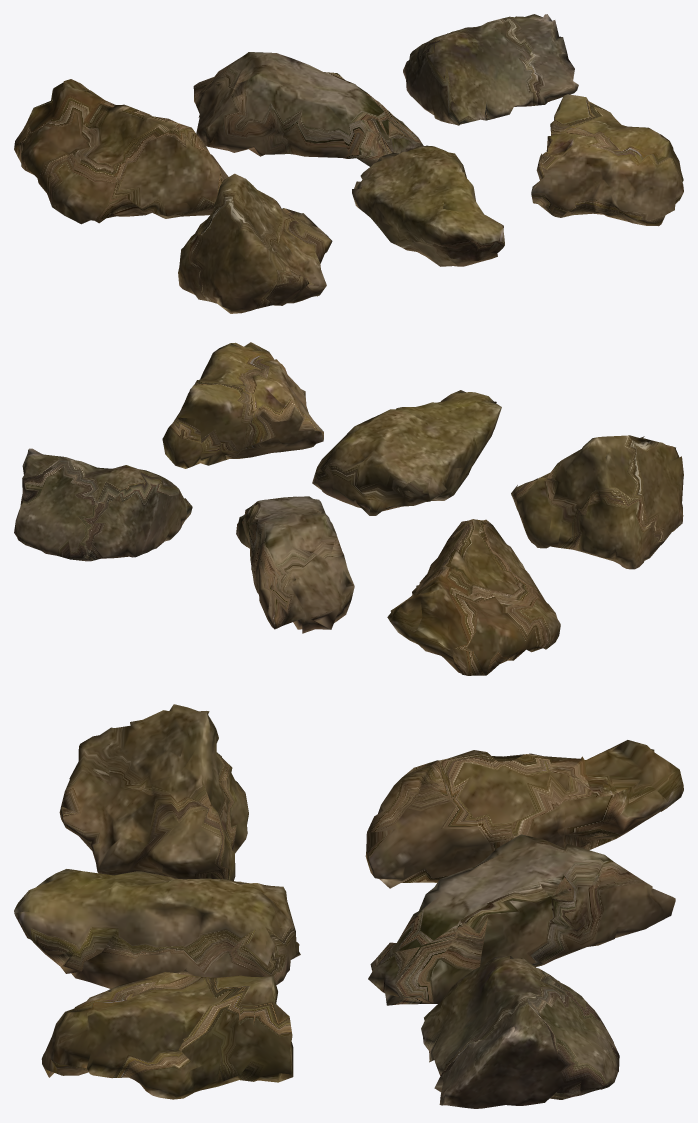
The model's file is rock_moss_set_01_lod1.glb.
3 renders of one model, top to bottom at view 1: azimuth 30°, elevation 25°; view 2: azimuth 150°, elevation 25°; view 3: azimuth 270°, elevation 25°, orthographic. The views are drawn at different scales.
Visible parts, largest first — view 1: rock_moss_set_01_rock01; view 2: rock_moss_set_01_rock01; view 3: rock_moss_set_01_rock01.
Part boxes in pixels (x1,y1,x2,y2): rock_moss_set_01_rock01: (14,14,683,313); rock_moss_set_01_rock01: (14,342,683,675); rock_moss_set_01_rock01: (14,704,683,1108).
Size of the model in its own units: 7.99 by 1.76 by 6.93.
1 material, 1 textured.
